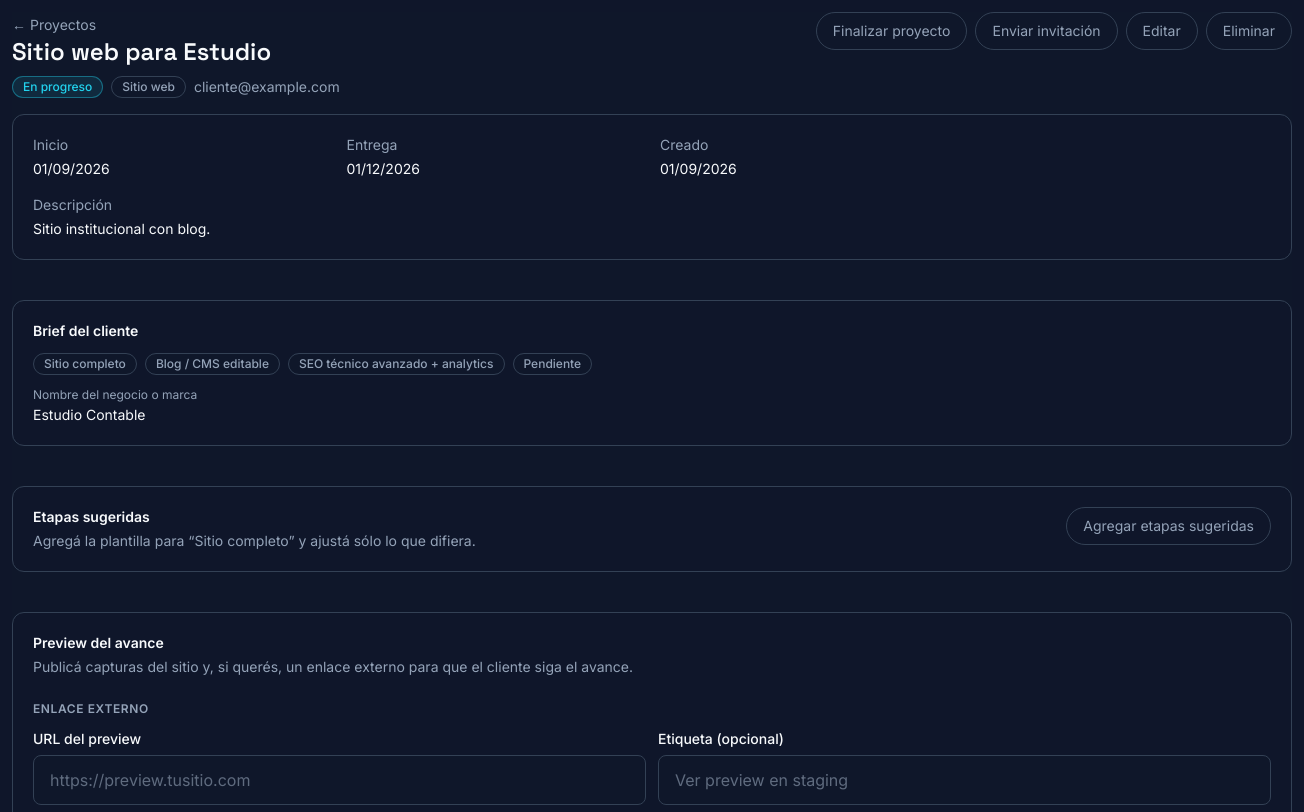
ProjectDetailPage › avisa si falla la invitación
Click the button "Enviar invitación".
click(1047, 31)  # box [976,12,1118,50]
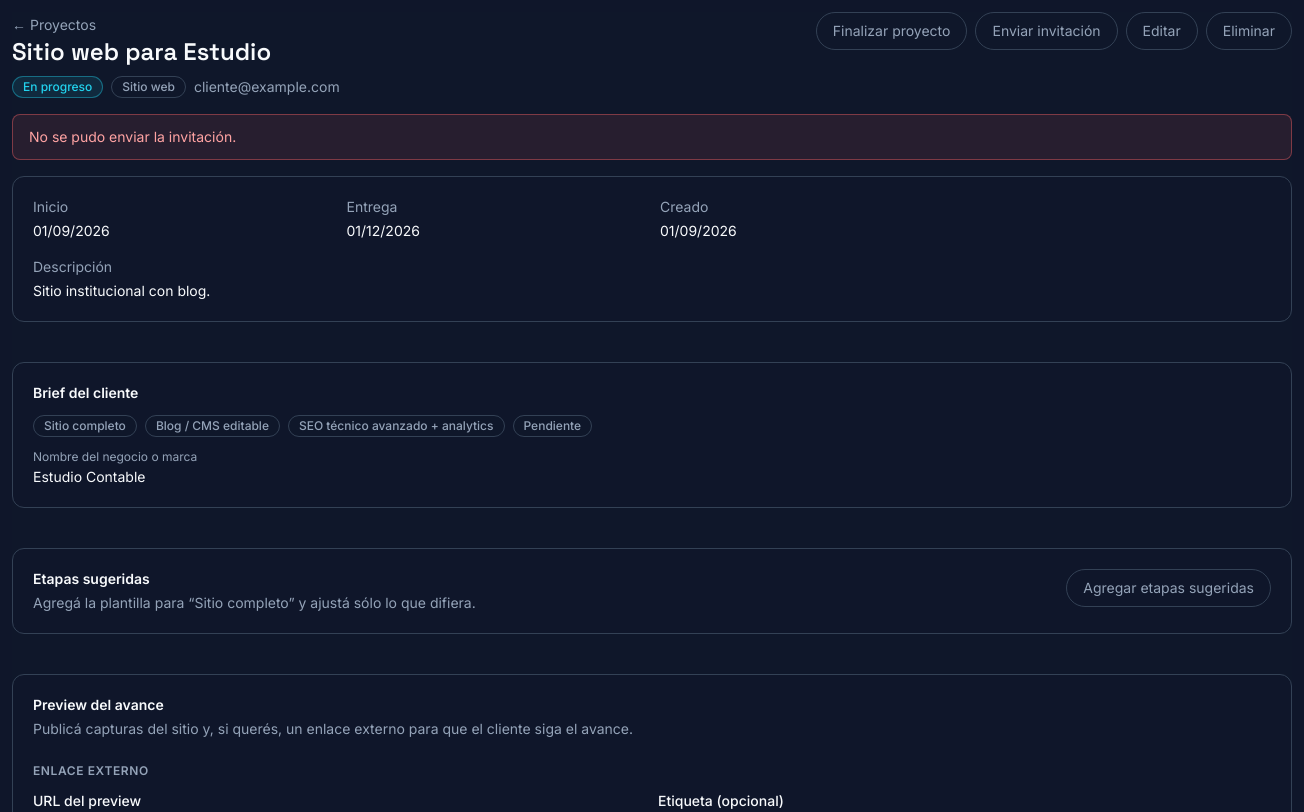
Result: the message reads "No se pudo enviar la invitación." at [29,128,236,145]
